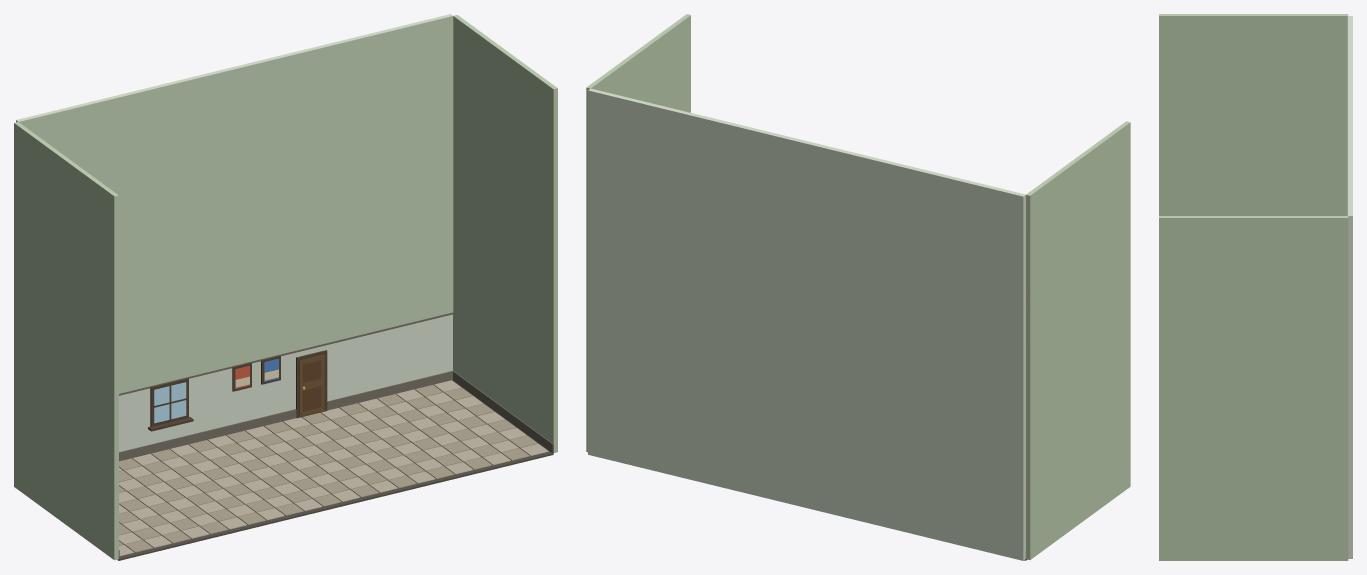
The model's file is room_verde_stone.glb.
3 renders of one model, left to right at view 1: azimuth 30°, elevation 25°; view 2: azimuth 150°, elevation 25°; view 3: azimuth 270°, elevation 25°, orthographic. The views are drawn at different scales.
Visible parts, largest first — view 1: room; view 2: room; view 3: room.
Boxes of the visible parts, x1,y1,x2,y2 form: room: (14,14,557,560); room: (586,14,1130,560); room: (1159,14,1352,560).
Bounding box in the file's own units: 30.6 × 24.11 × 12.3.
